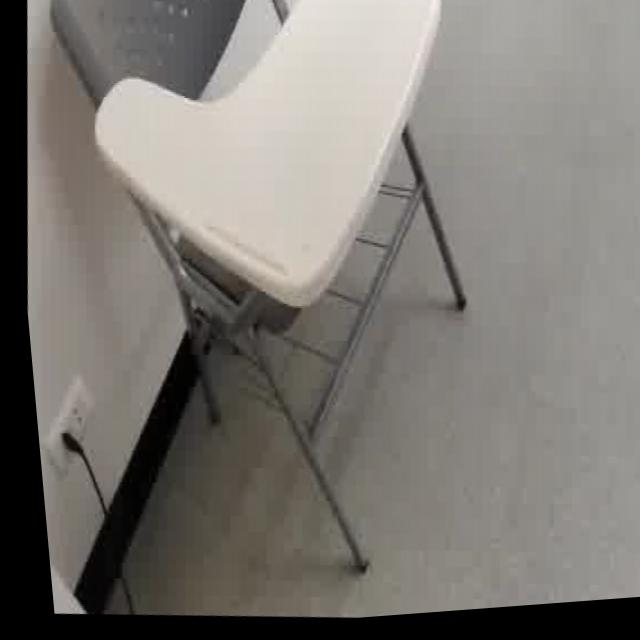chair: (0, 0, 501, 640)
